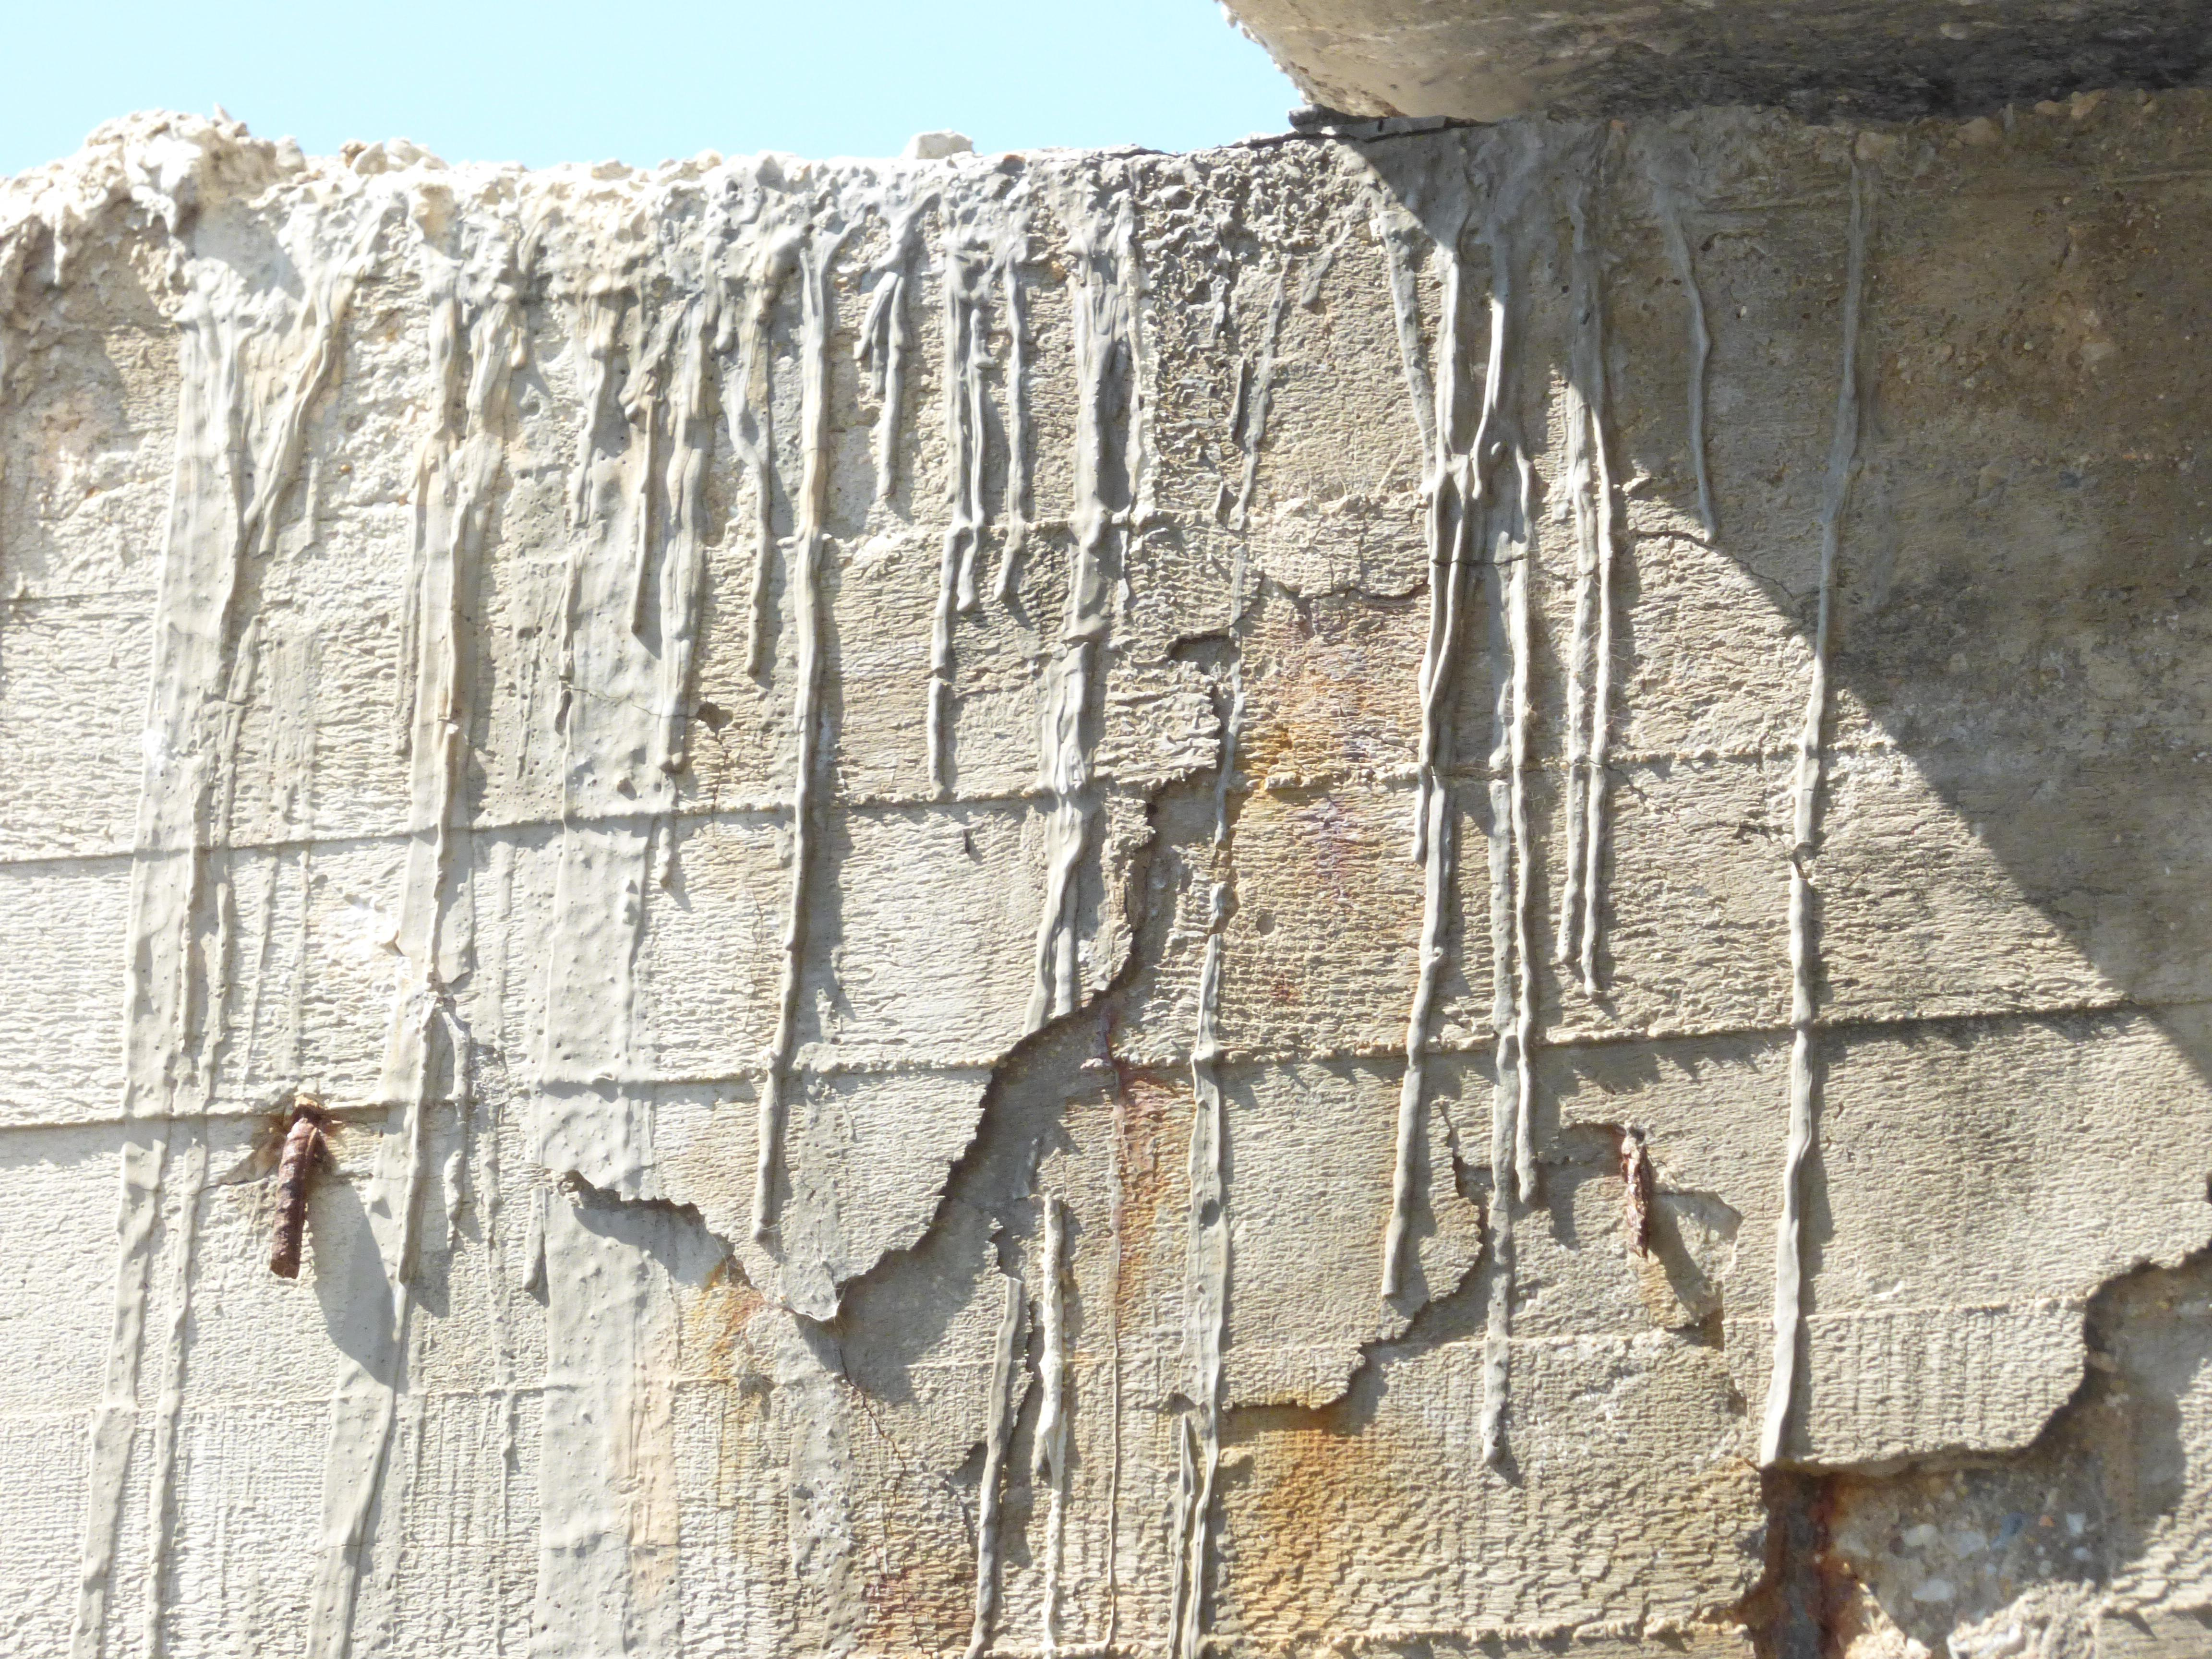rebar: (1770, 1476, 1831, 1659), (272, 1117, 314, 1276), (1615, 1134, 1653, 1262)
separation: (404, 570, 1263, 1317), (1531, 1094, 2209, 1474), (1256, 526, 1813, 843), (1137, 1072, 1486, 1413)
spall: (1745, 1244, 2212, 1659)
voids and pits: (1693, 160, 2212, 803)
